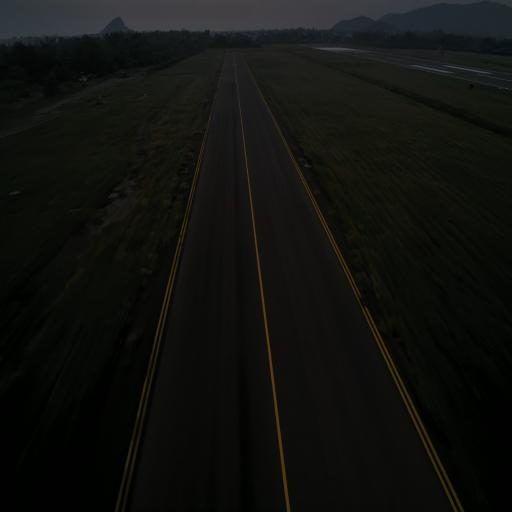on: (305, 159, 309, 166), (185, 167, 189, 173)
